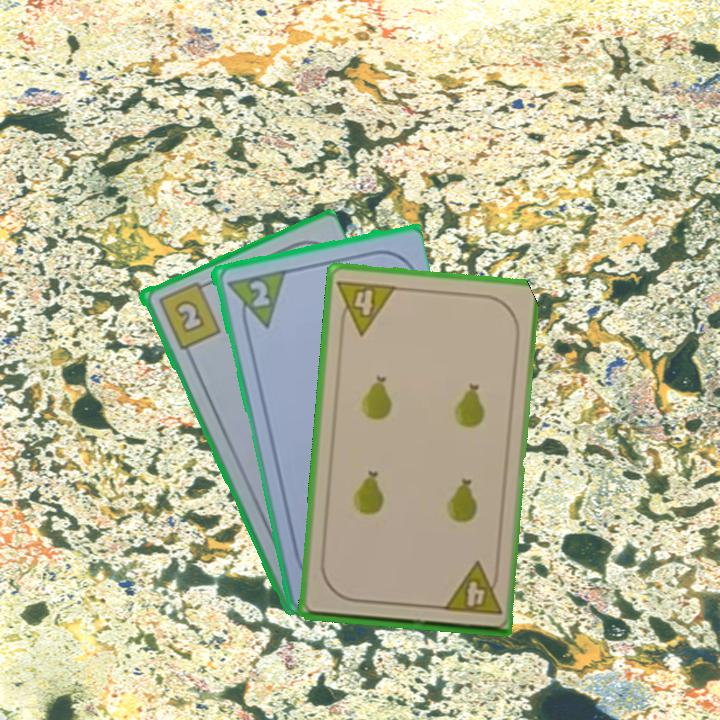2b: (154, 278, 223, 352)
2p: (222, 266, 287, 334)
4p: (334, 276, 399, 338), (439, 559, 504, 618)
